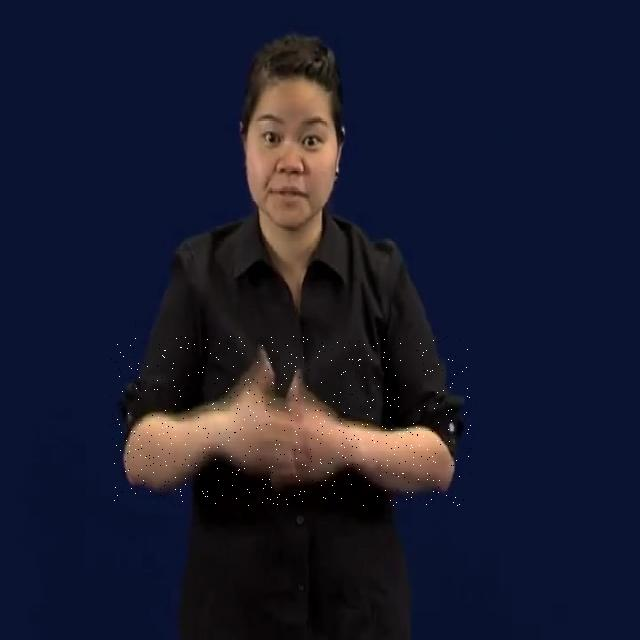bread: (110, 336, 471, 506)
